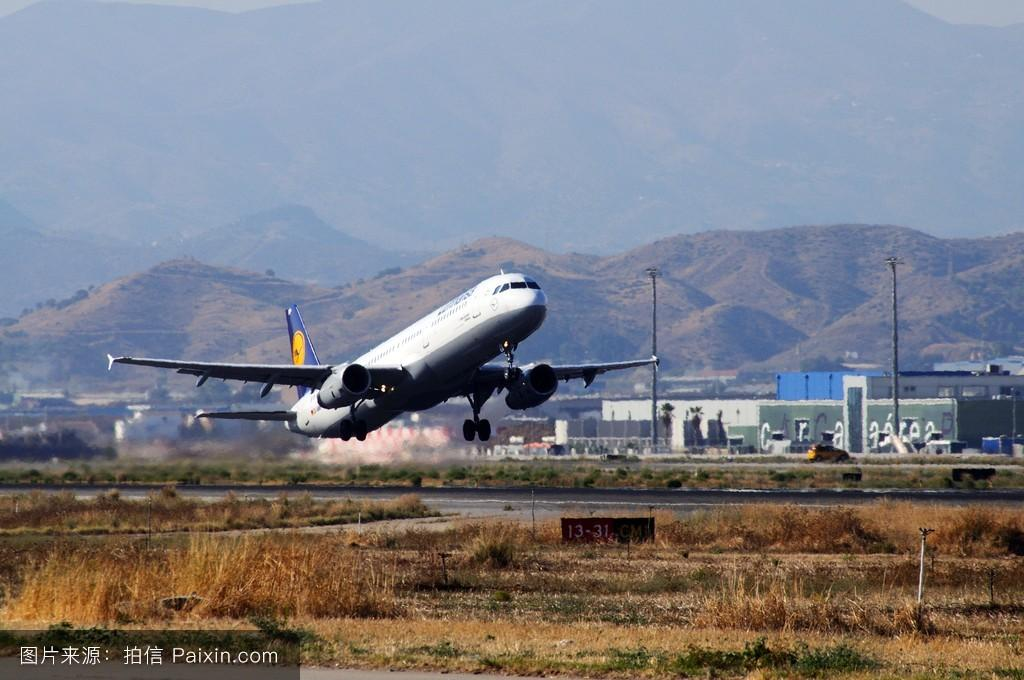airplane: (105, 265, 658, 445)
